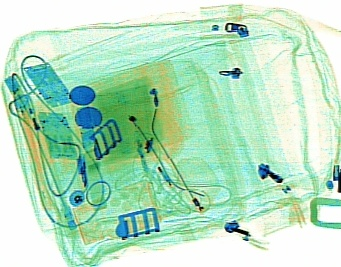lighter: (10, 92, 53, 174)
